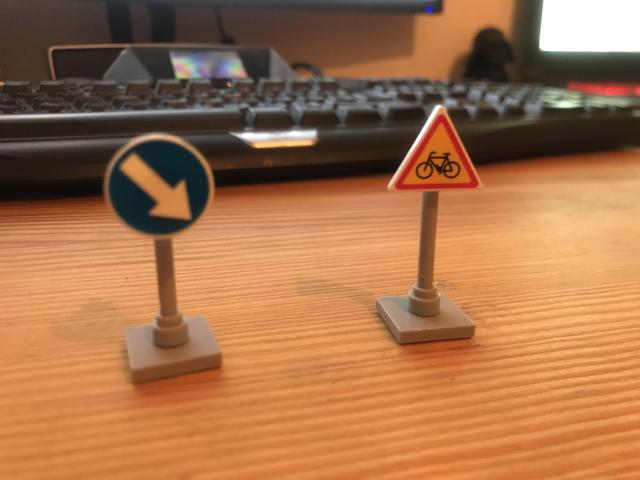radfahrer: (387, 108, 482, 191)
rechts halten: (106, 134, 215, 237)
